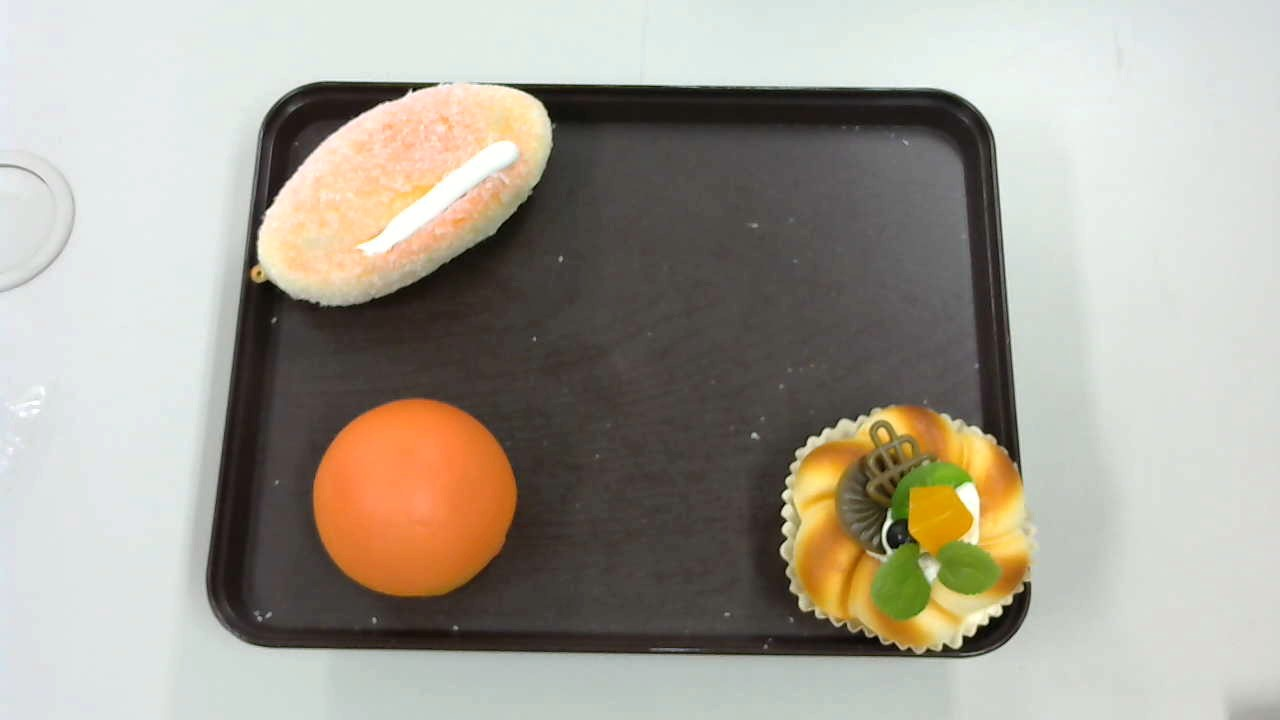bun: (314, 398, 518, 598)
coconut: (249, 81, 554, 307)
fruit tart: (780, 402, 1038, 654)
